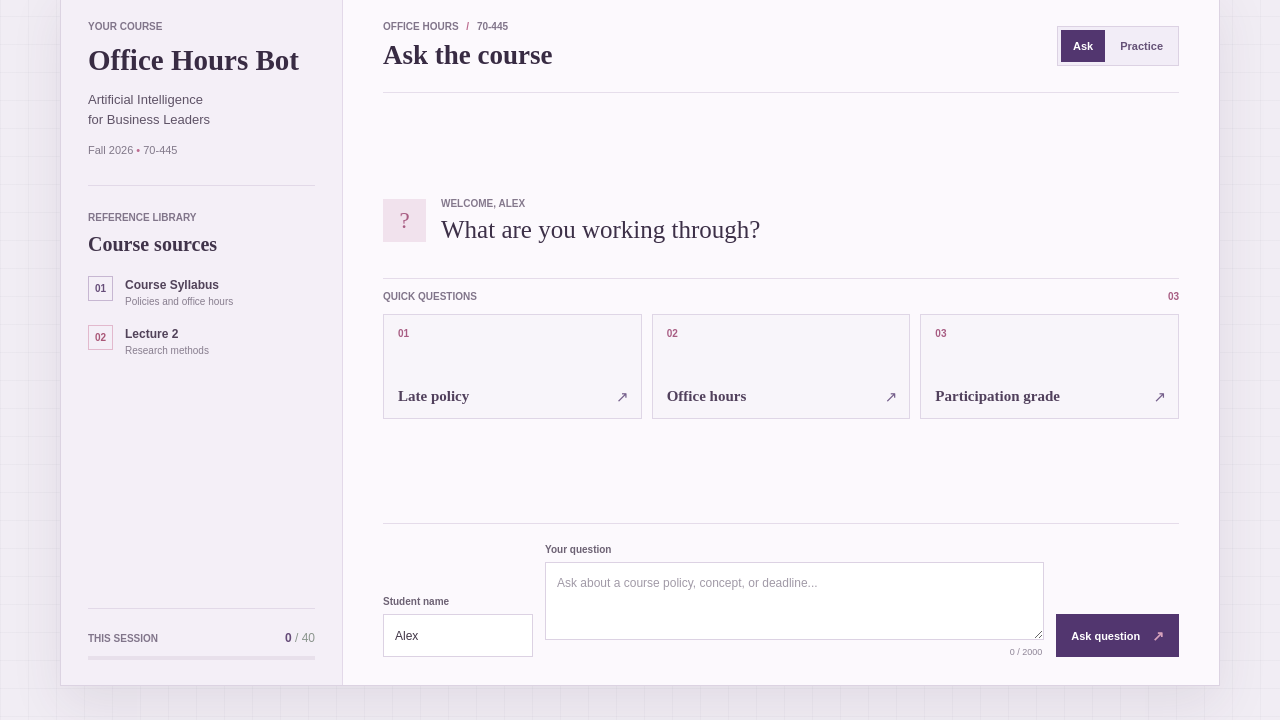
Test: Office Hours Bot - Story 1 › lets the student start a new conversation
(page scrolled)
Type "What is the late policy?" into the text box labelled "Your question" at (795, 601), box x1=545 y1=562 x2=1044 y2=640
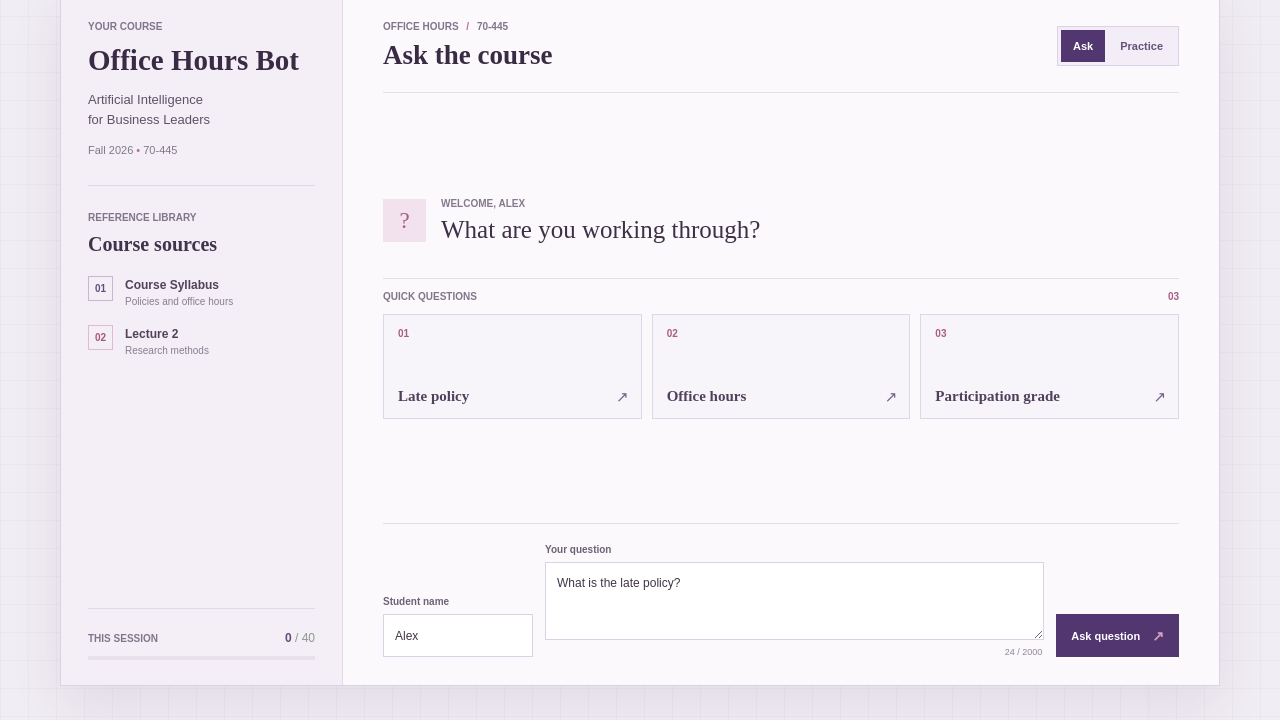
Click the button "Ask question ↗" at (1118, 636), box x1=1056 y1=614 x2=1179 y2=657
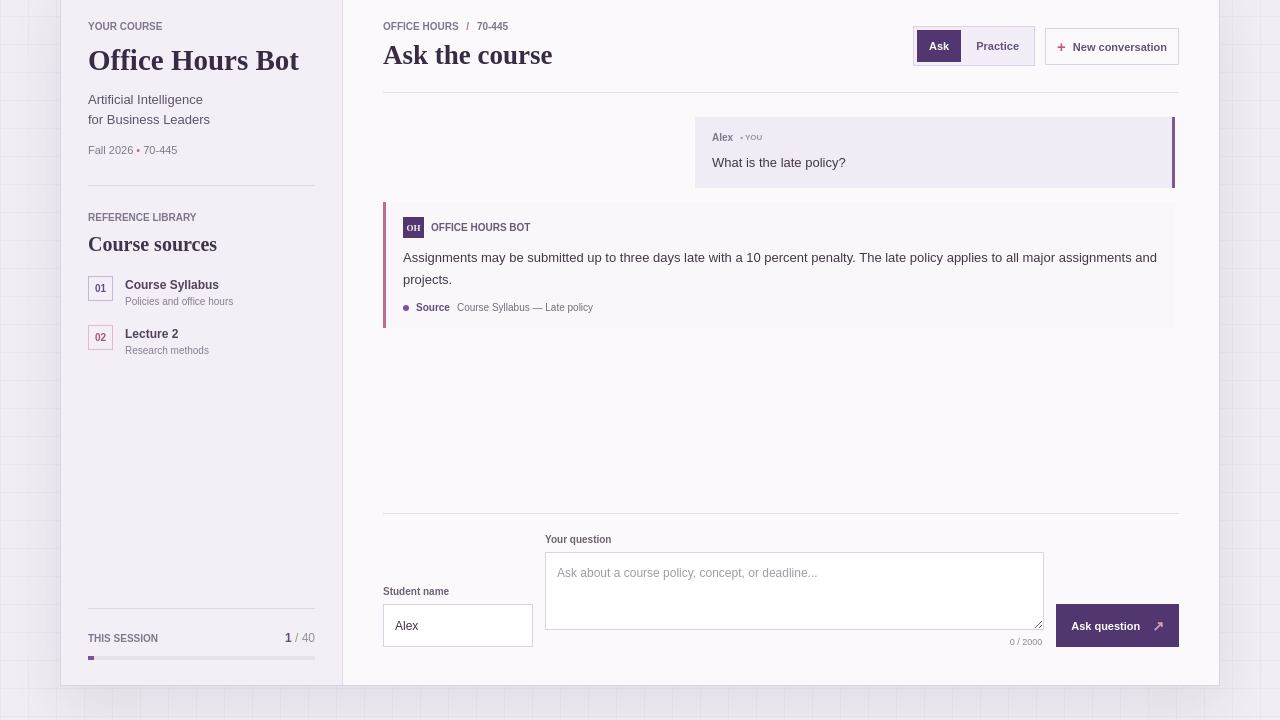
Click the button "+ New conversation" at (1112, 46), box x1=1045 y1=28 x2=1179 y2=64
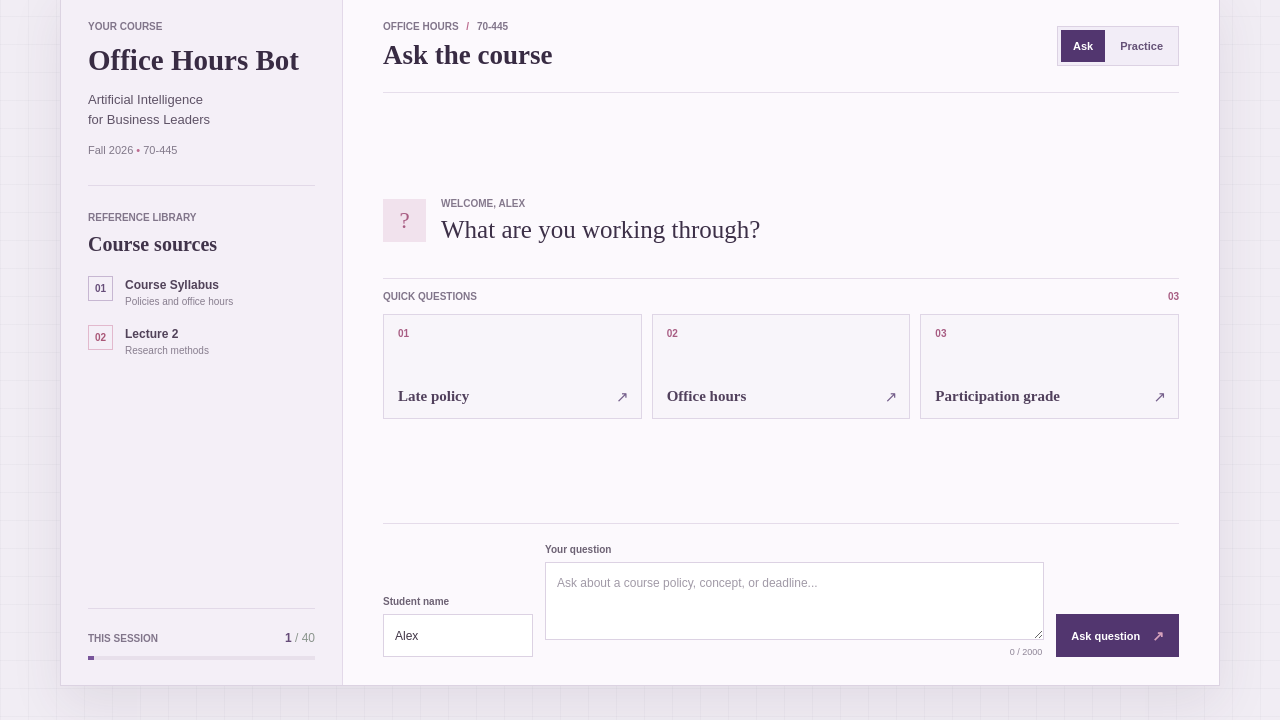
expect the text "three days late with a 10 percent penalty" is gone: met
expect the button with aria-label "ask about late policy" is shown: met, box x1=383 y1=314 x2=642 y2=418
